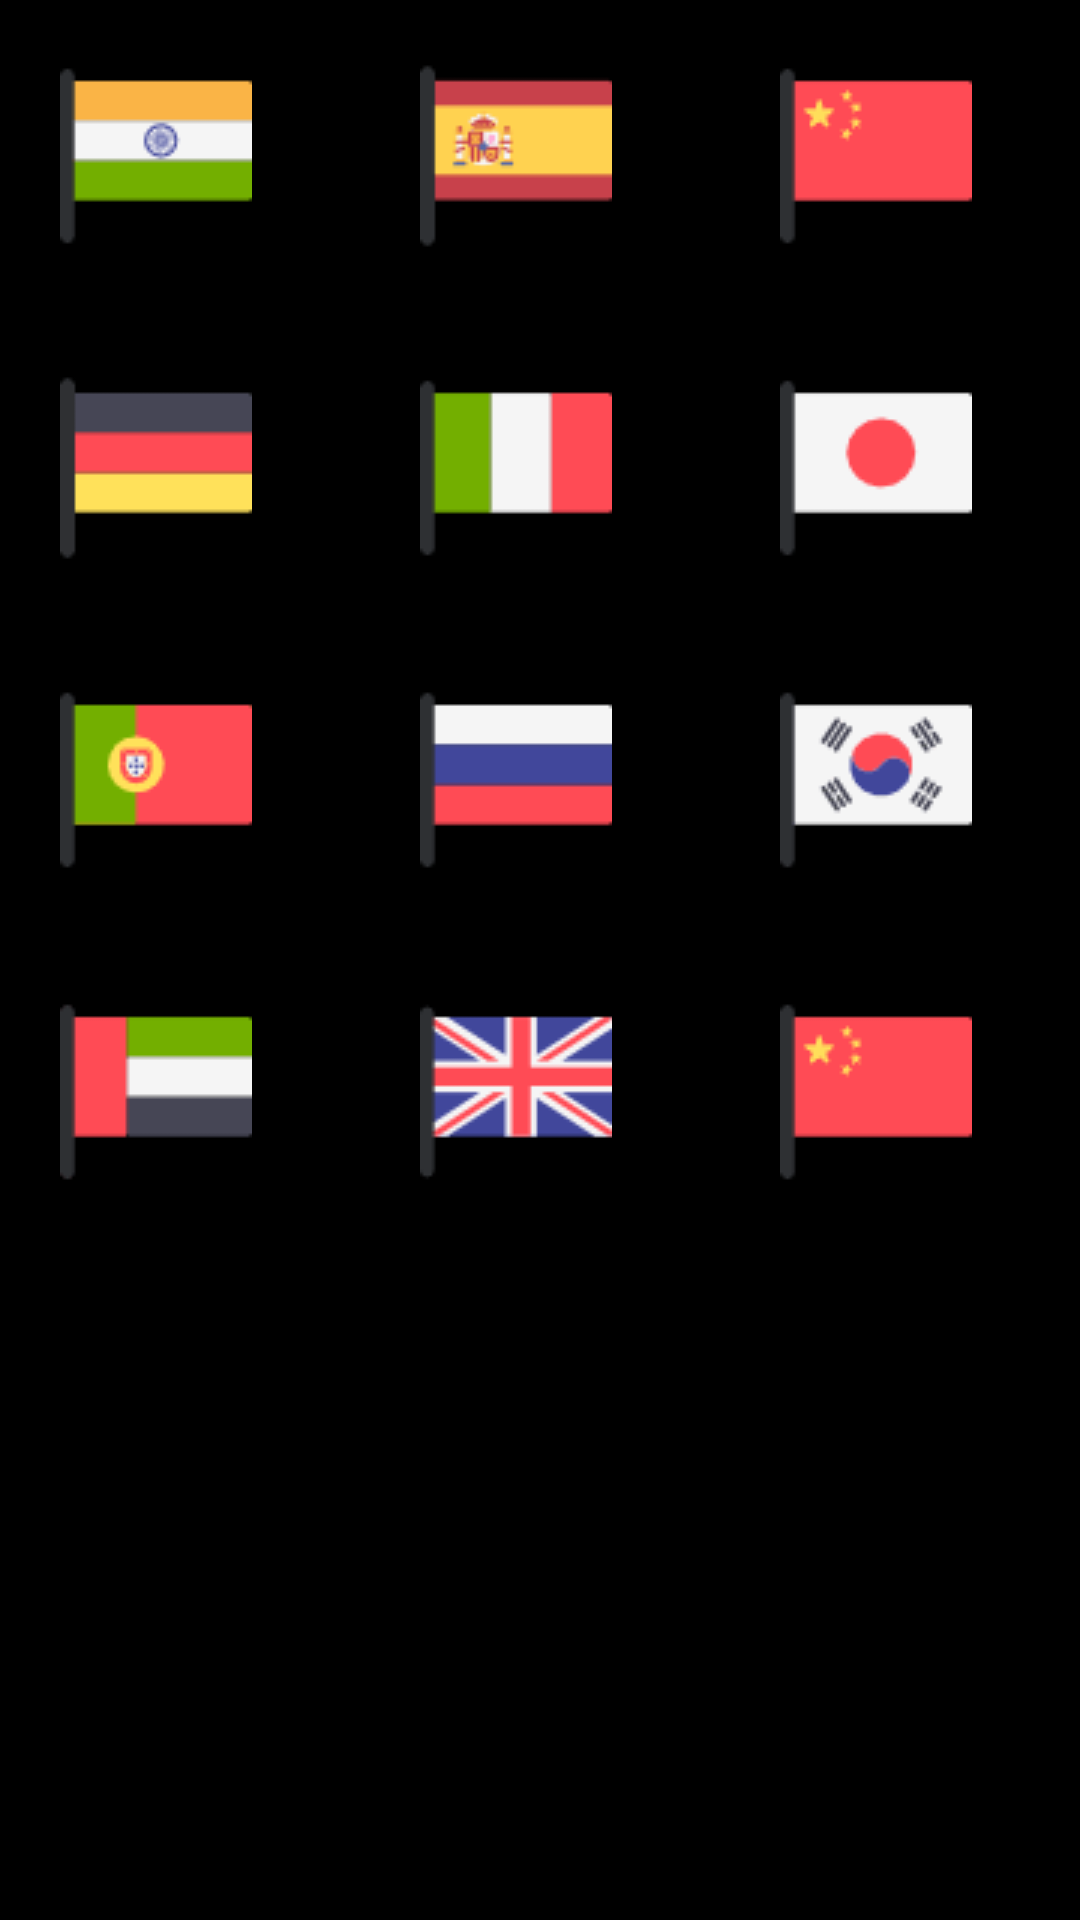

Where icons sit on this 1080px x 1920px app screen, as bbox=[x1, y1, x2, y2]:
china: bbox=[780, 69, 972, 243], bbox=[780, 1005, 972, 1179]
germany: bbox=[60, 378, 252, 558]
india: bbox=[60, 69, 252, 243]
italy: bbox=[420, 381, 612, 555]
japan: bbox=[780, 381, 972, 555]
portugal: bbox=[60, 693, 252, 867]
russia: bbox=[420, 693, 612, 867]
south korea: bbox=[780, 693, 972, 867]
spain: bbox=[420, 66, 612, 246]
united arab emirates: bbox=[60, 1005, 252, 1179]
united kingdom: bbox=[420, 1007, 612, 1177]
